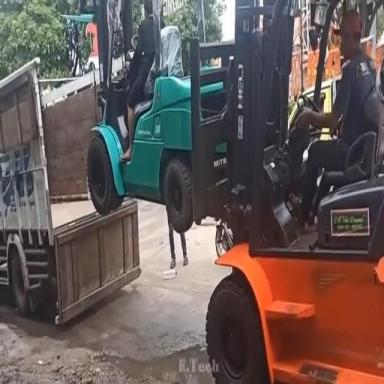forklift: (191, 0, 384, 384), (83, 0, 232, 233)
